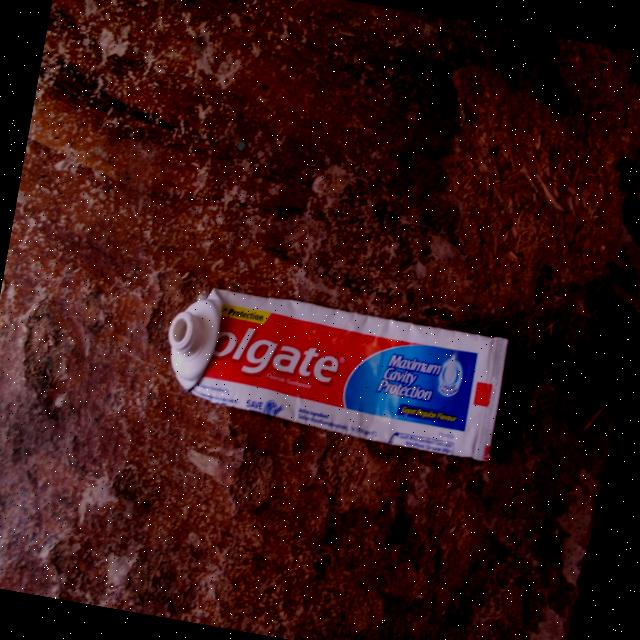Toothpaste: (153, 277, 513, 465)
